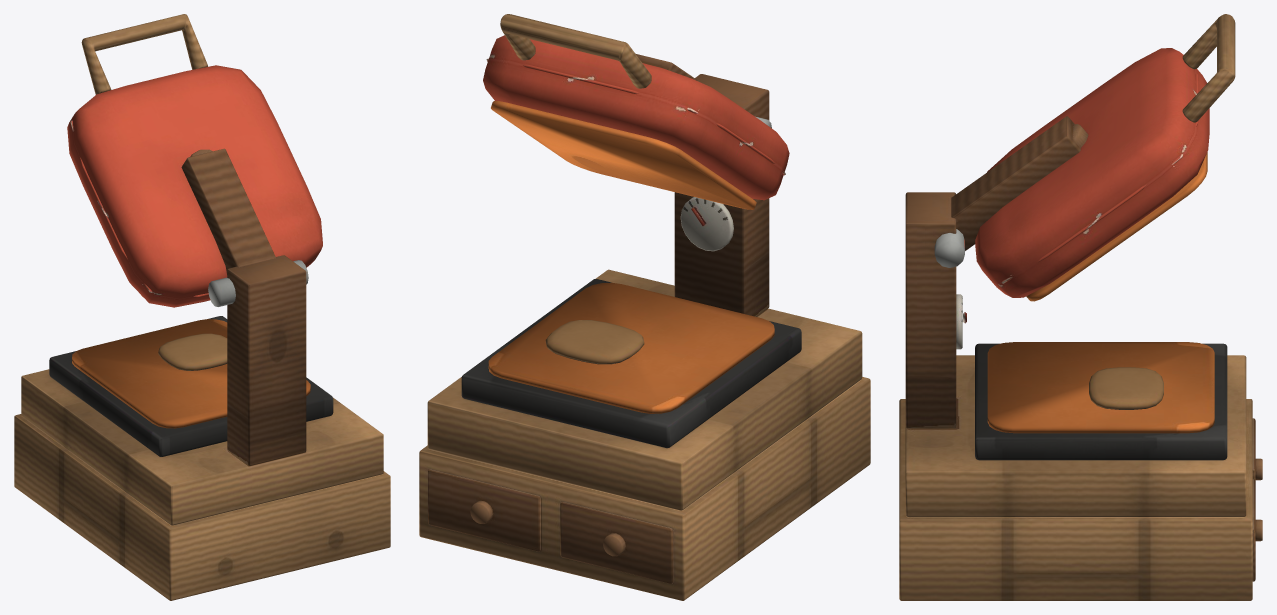
File: giant_heat_press.glb
The picture shows the model from 3 angles, left to right: view 1: azimuth 30°, elevation 25°; view 2: azimuth 150°, elevation 25°; view 3: azimuth 270°, elevation 25°; orthographic projection. The views are drawn at different scales.
Visible parts, largest first — view 1: prop_giant_heat_press_wood, prop_giant_heat_press_felt, prop_giant_heat_press_felt_heat; view 2: prop_giant_heat_press_wood, prop_giant_heat_press_felt, prop_giant_heat_press_felt_heat; view 3: prop_giant_heat_press_wood, prop_giant_heat_press_felt, prop_giant_heat_press_felt_heat.
Boxes of the visible parts, box(x1,y1,x2,y2) form: prop_giant_heat_press_wood: box(14, 14, 390, 600); prop_giant_heat_press_felt: box(49, 65, 333, 456); prop_giant_heat_press_felt_heat: box(72, 295, 310, 428); prop_giant_heat_press_wood: box(419, 14, 870, 600); prop_giant_heat_press_felt: box(461, 35, 801, 448); prop_giant_heat_press_felt_heat: box(488, 101, 774, 413); prop_giant_heat_press_wood: box(899, 14, 1262, 600); prop_giant_heat_press_felt: box(934, 48, 1227, 460); prop_giant_heat_press_felt_heat: box(987, 152, 1214, 433).
Size of the model in its own units: 1.6 by 3.06 by 2.01.
3 materials, 3 textured.
